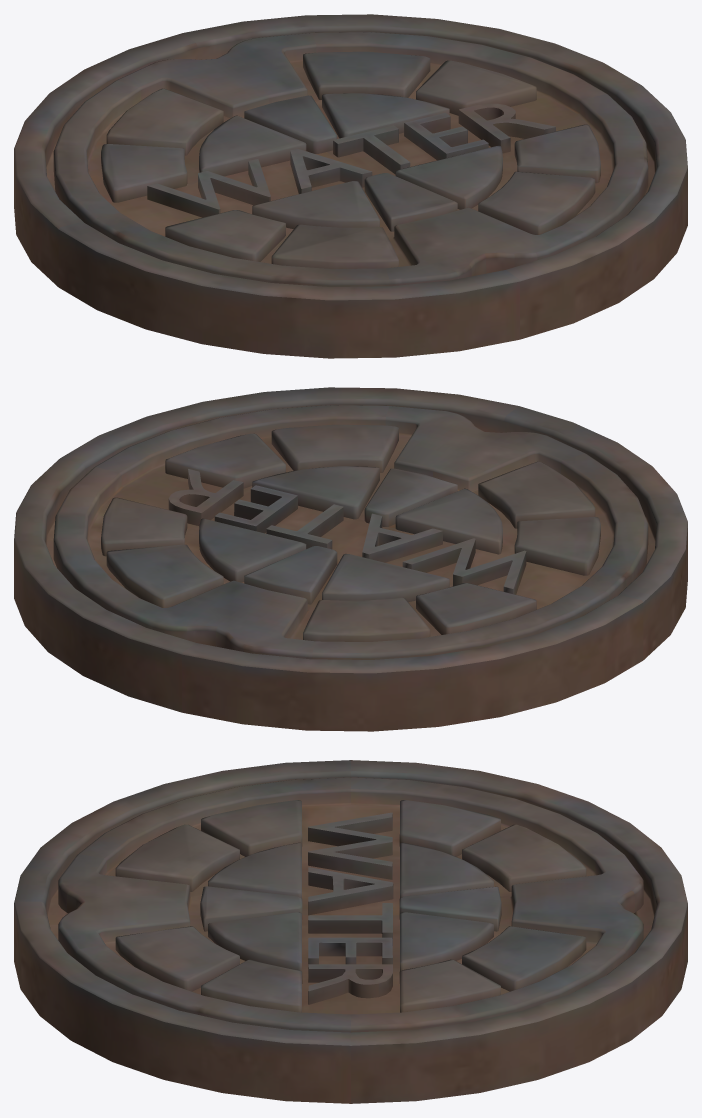
Rendered from water_manhole_cover.glb.
3 renders of one model, top to bottom at view 1: azimuth 30°, elevation 25°; view 2: azimuth 150°, elevation 25°; view 3: azimuth 270°, elevation 25°, orthographic.
Visible parts, largest first — view 1: water_manhole_cover_frame; view 2: water_manhole_cover_frame; view 3: water_manhole_cover_frame.
Part boxes in pixels (x1,y1,x2,y2): water_manhole_cover_frame: (14, 14, 687, 358); water_manhole_cover_frame: (14, 387, 687, 731); water_manhole_cover_frame: (14, 760, 687, 1103).
Size of the model in its own units: 0.6908 by 0.0676 by 0.6908.
1 material, 1 textured.
